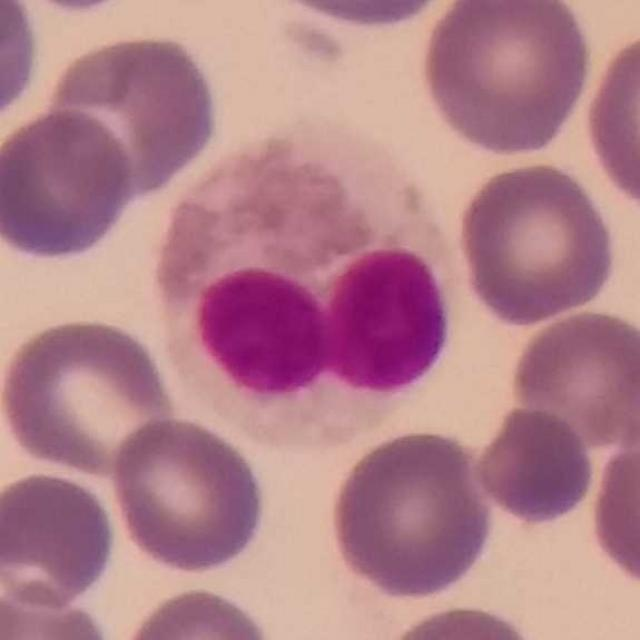eosino: (151, 106, 465, 452)
